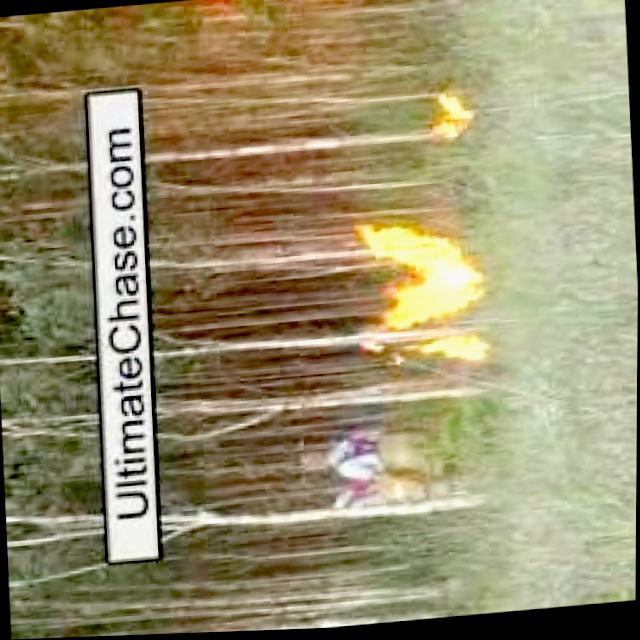Fire: (349, 212, 490, 340), (418, 88, 485, 146), (419, 331, 502, 369)
